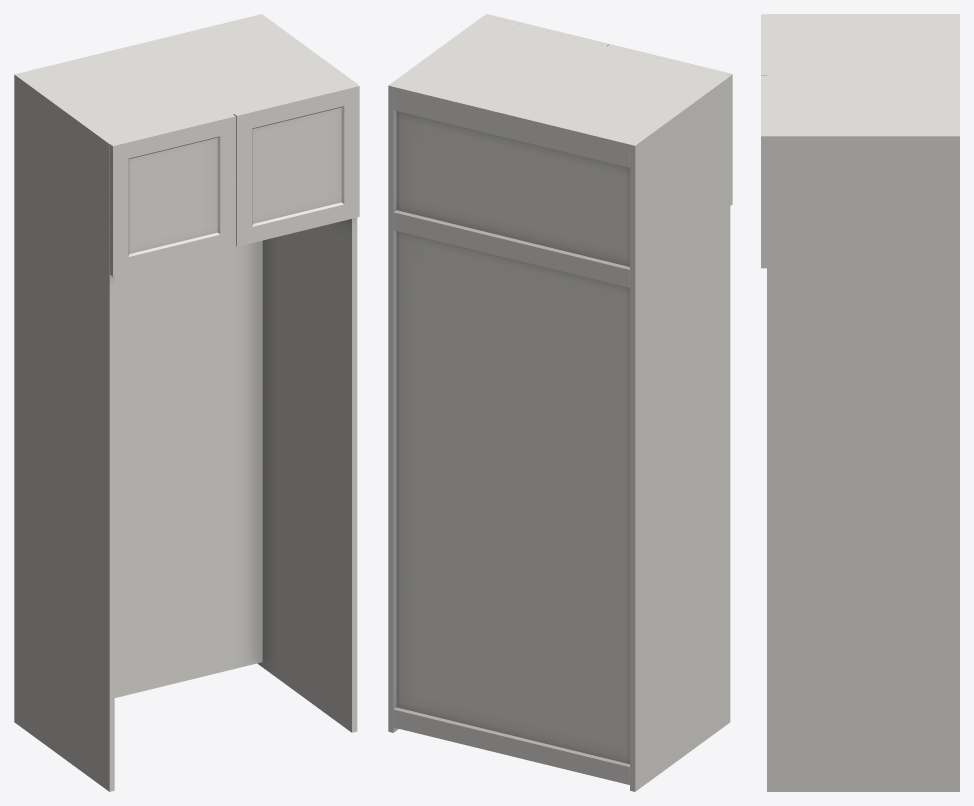
File: tall-fridge-dividers-doors-on.glb
3 renders of one model, left to right at view 1: azimuth 30°, elevation 25°; view 2: azimuth 150°, elevation 25°; view 3: azimuth 270°, elevation 25°, orthographic.
Parts seen in each view (by area): view 1: part_0, part_4; view 2: part_0, part_4; view 3: part_0, part_4.
Part boxes in pixels (bbox=[...]): part_0: bbox=[14, 14, 357, 791]; part_4: bbox=[110, 84, 359, 276]; part_0: bbox=[388, 16, 730, 791]; part_4: bbox=[484, 14, 732, 205]; part_0: bbox=[767, 14, 959, 791]; part_4: bbox=[761, 14, 766, 268].
Bounding box in the file's own units: 0.9144 × 2.29 × 0.6287.
2 materials, 2 textured.
